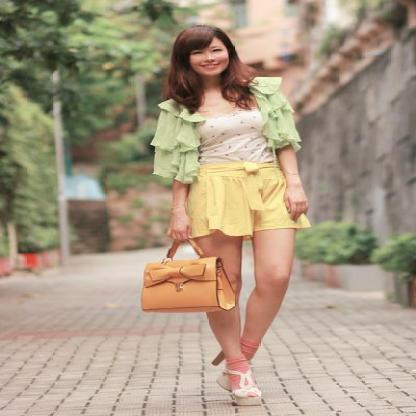bag: (141, 257, 240, 312)
shirt: (151, 77, 299, 189), (187, 92, 274, 162)
shoe: (233, 374, 260, 396)
shorts: (192, 154, 310, 236)
